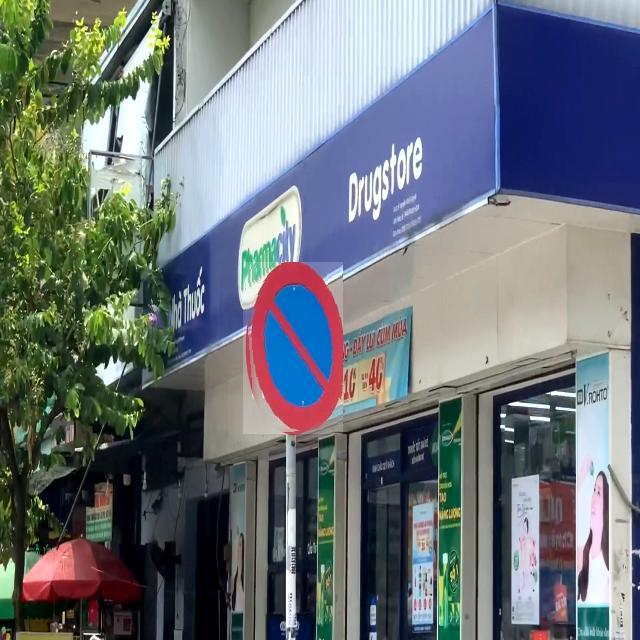P-131a: (243, 262, 343, 434)
